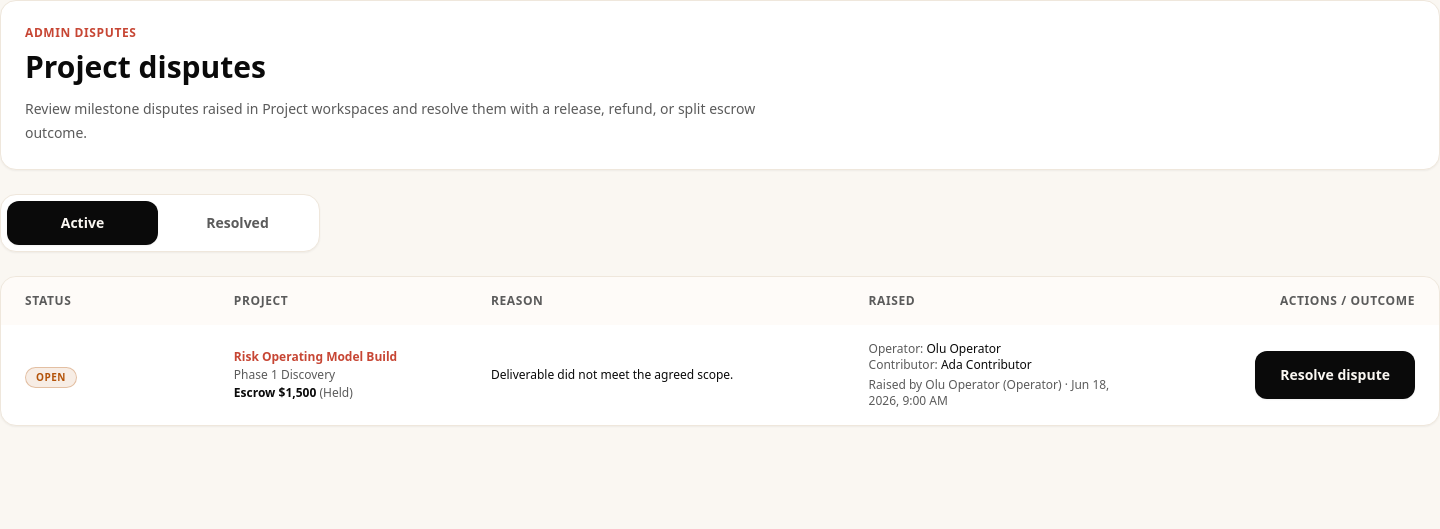
AdminDisputesPanel › refetches resolved disputes when the filter changes
The width and height of the screenshot is (1440, 529).
expect the link "Risk Operating Model Build" is shown: met, box [234,348,397,365]
Click the button "Resolved".
click(238, 223)  # box [162,201,313,245]
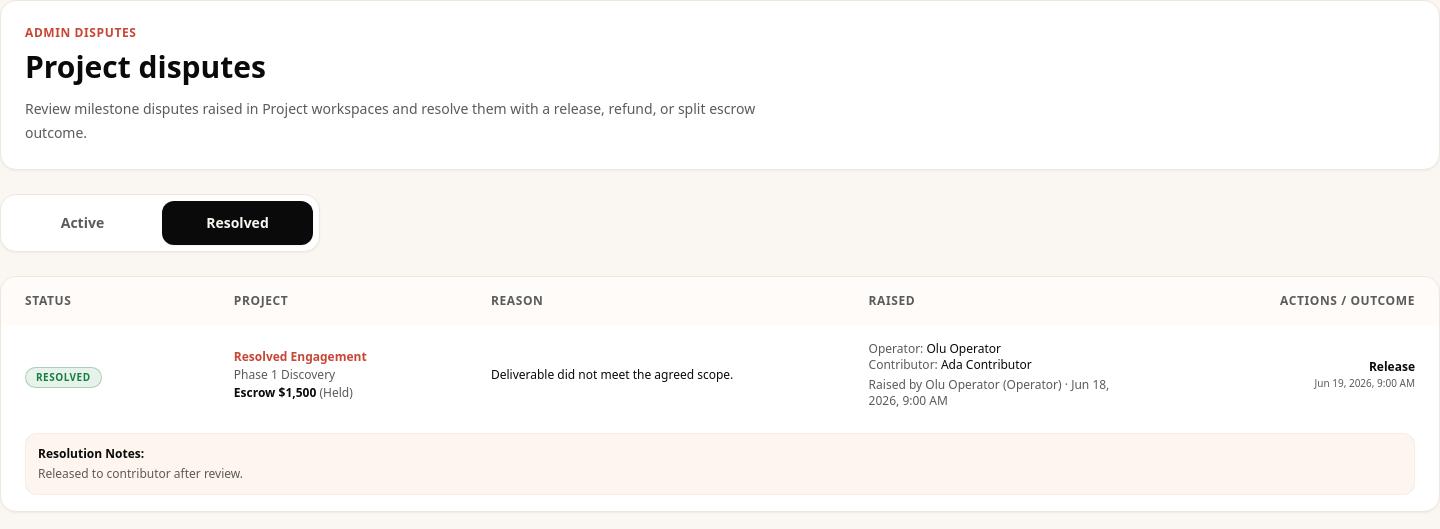
expect the link "Resolved Engagement" is shown: met, box [234,348,367,365]
